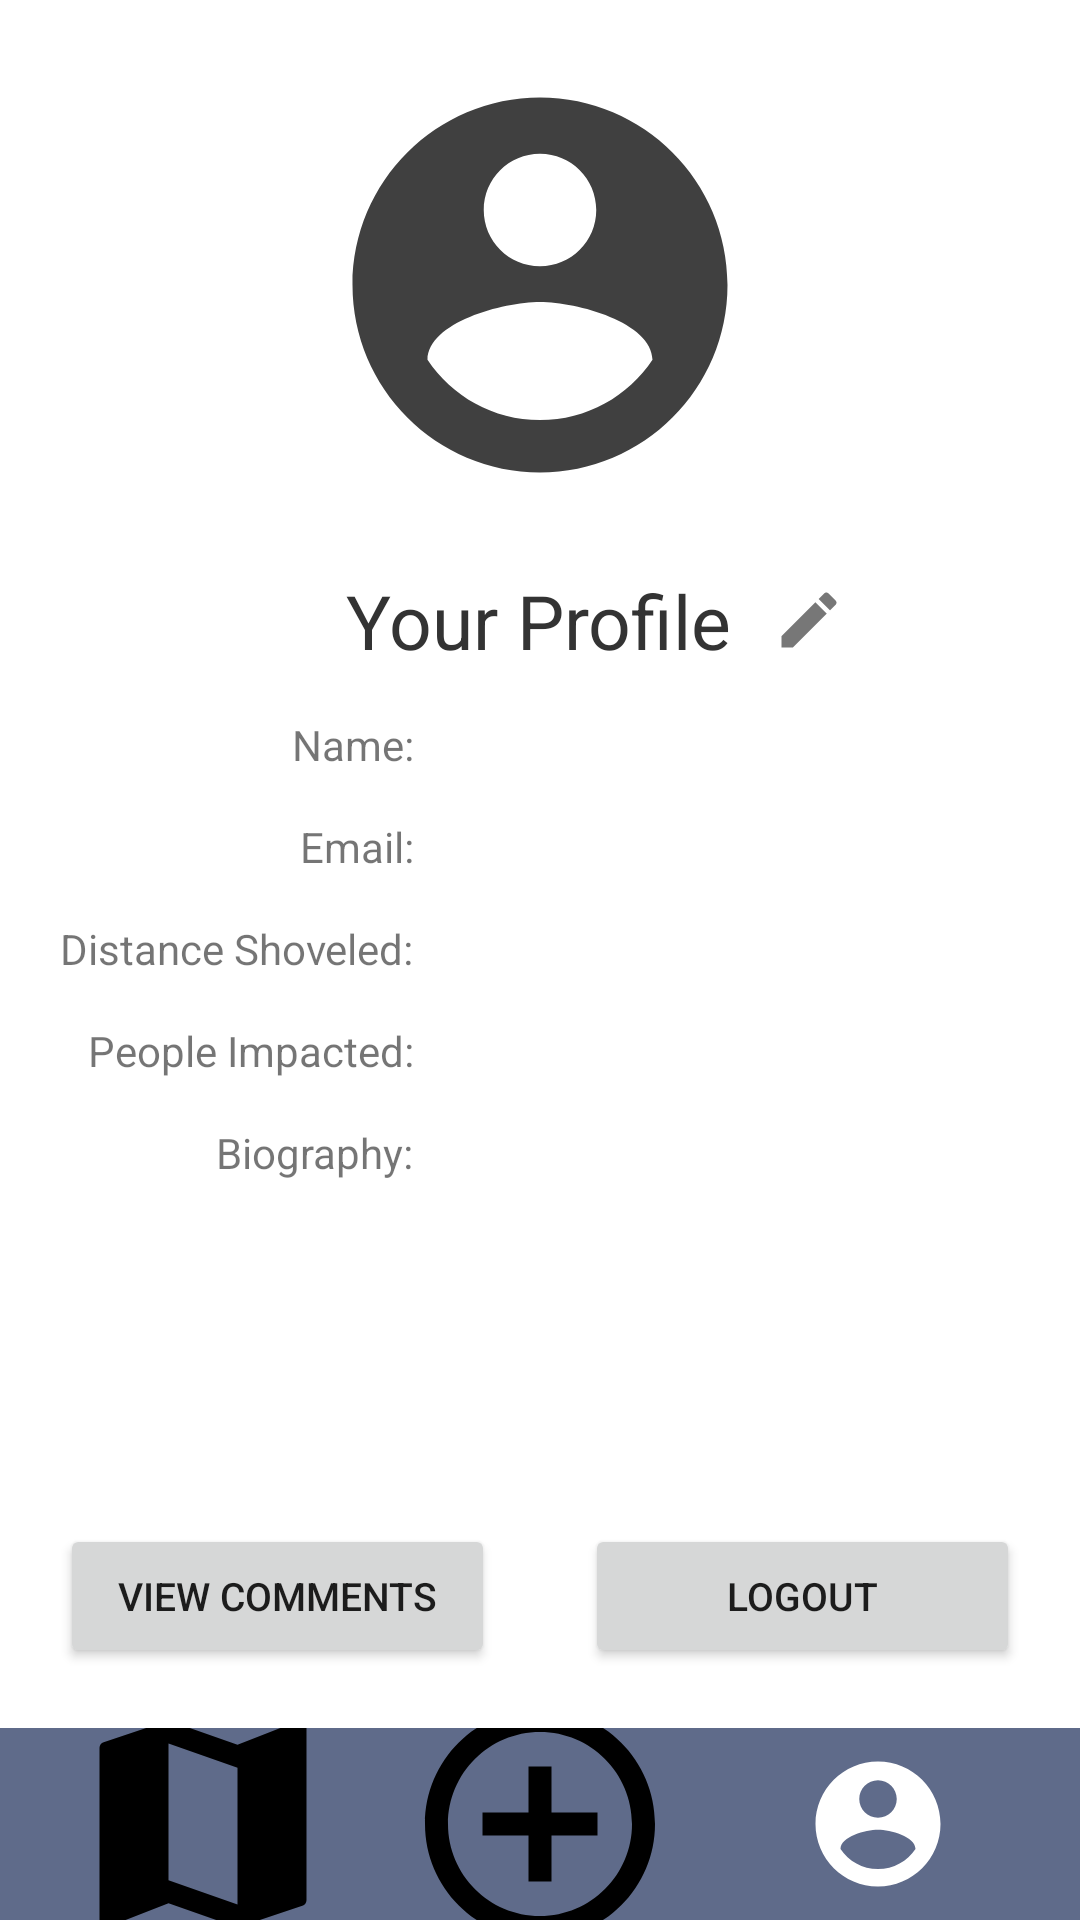

Icon click points for this 1080*1920 phone screenshot, format (x,y):
create request: (540,1824)
edit profile: (809,620)
